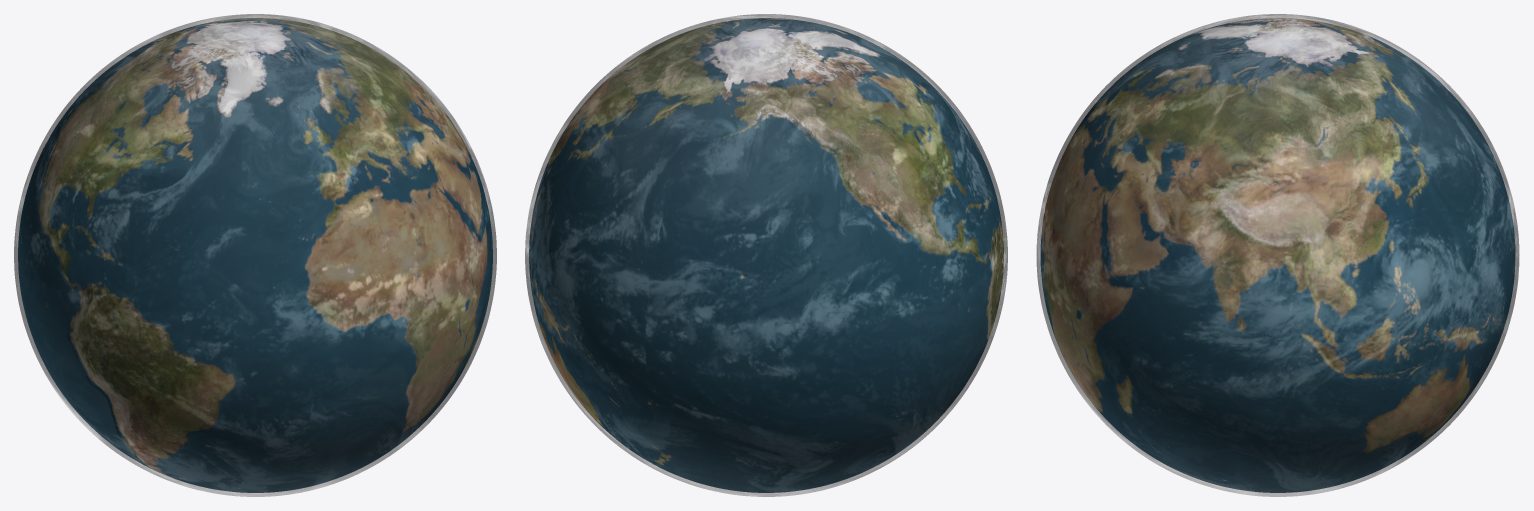
3 views of the same model, side by side, from view 1: azimuth 30°, elevation 25°; view 2: azimuth 150°, elevation 25°; view 3: azimuth 270°, elevation 25° (orthographic).
Visible parts, largest first — view 1: Clouds, Earth; view 2: Clouds, Earth; view 3: Clouds, Earth.
Boxes of the visible parts, bbox=[...] form: Clouds: bbox=[14, 14, 496, 496]; Earth: bbox=[18, 18, 492, 492]; Clouds: bbox=[525, 14, 1007, 496]; Earth: bbox=[529, 18, 1003, 492]; Clouds: bbox=[1036, 14, 1519, 496]; Earth: bbox=[1040, 18, 1515, 492].
Bounding box in the file's own units: 102 × 102 × 102.
2 materials, 2 textured.
